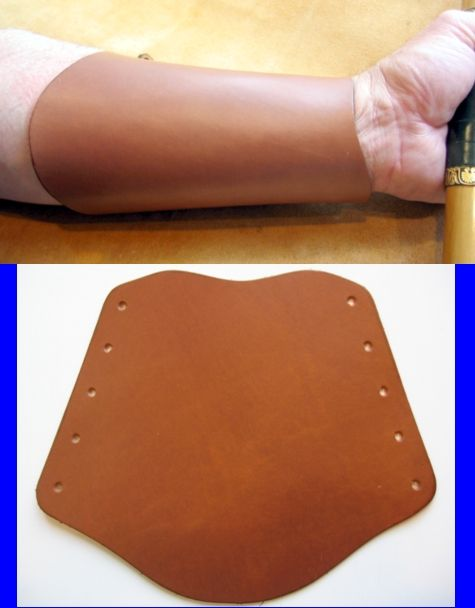cuero: (29, 51, 374, 216)
